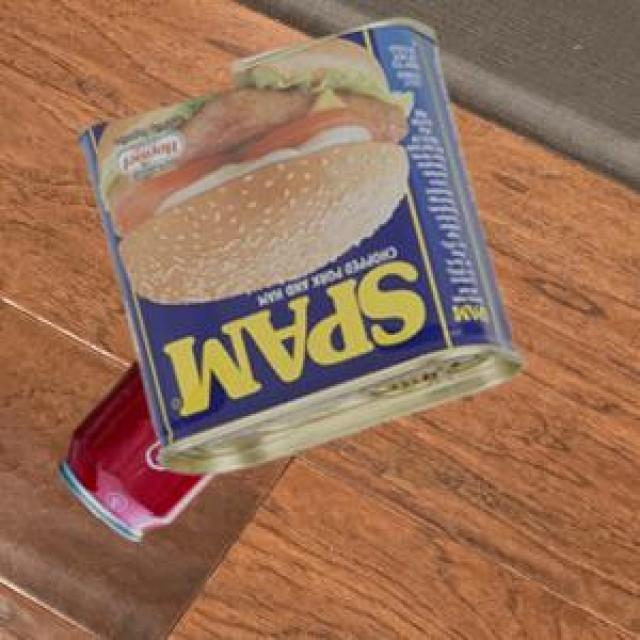Can: (76, 18, 522, 470), (57, 357, 212, 537)
